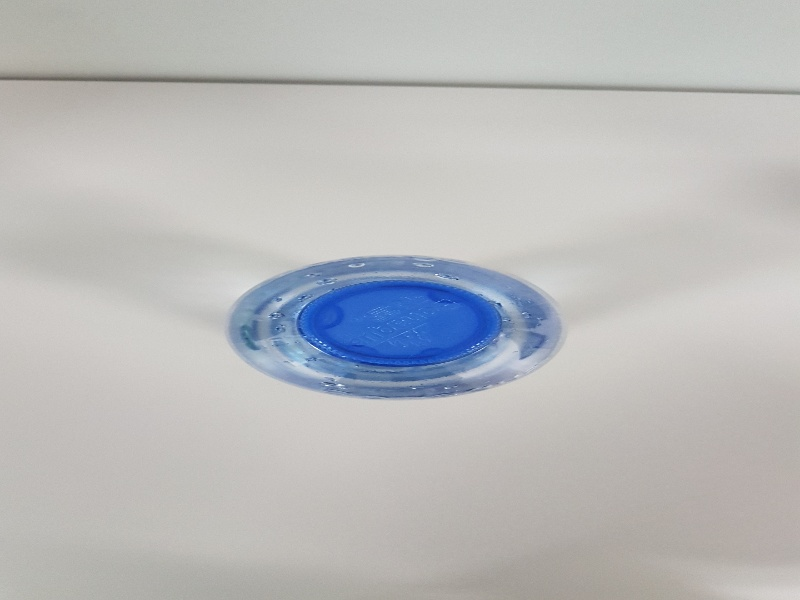Bottle: (225, 256, 565, 401)
